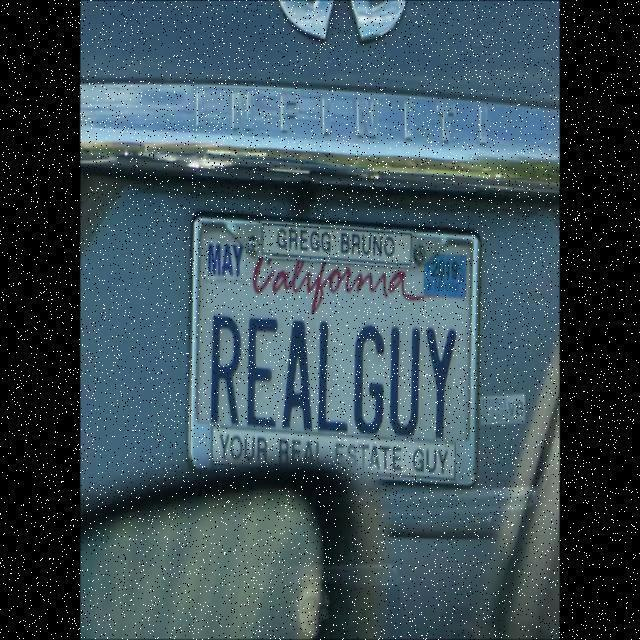License Plate: (185, 193, 490, 509)
